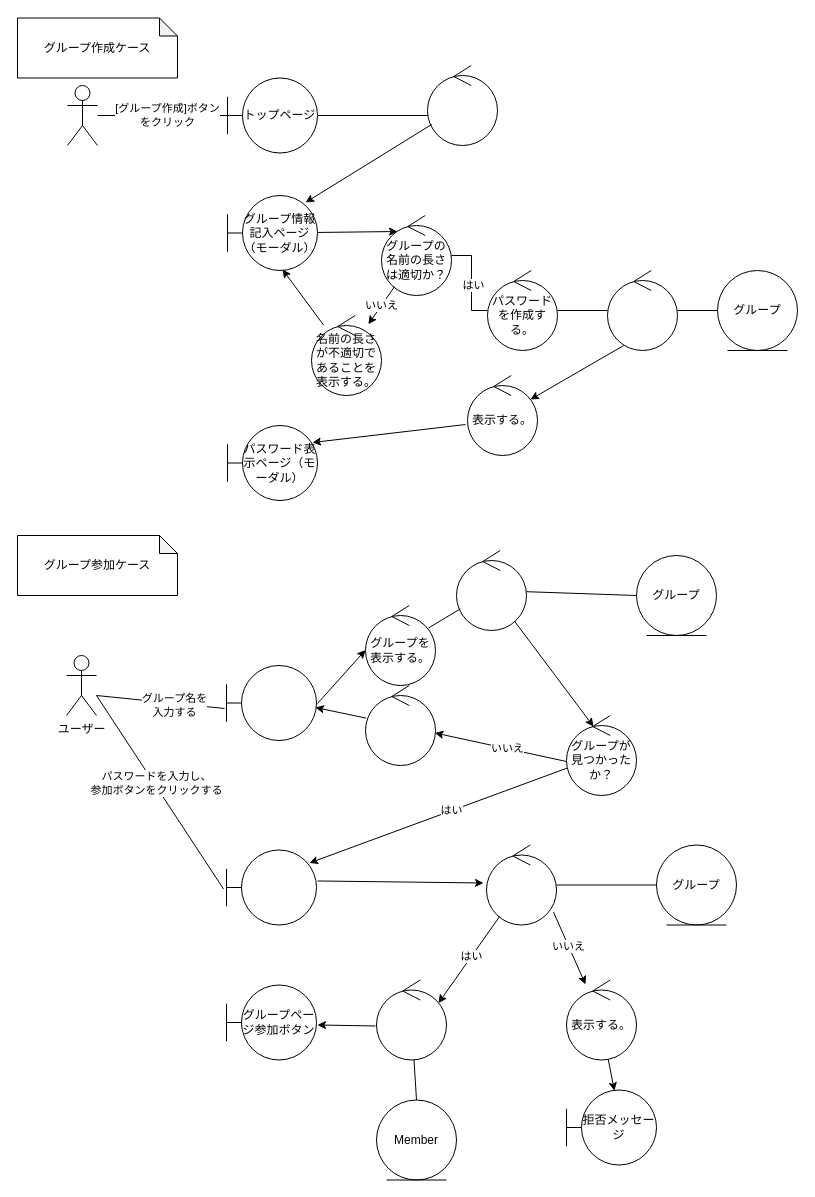
The diagram is 815 pixels wide and 1197 high, and some of its shapes have lost their labels. The centre of each missing label's shape, as x and y in pixels:
"グループにユーザーを追加する" goes at point (411, 1019).
"グループを作成する。" goes at point (642, 310).
"グループ一覧ページ" goes at point (271, 887).
"グループ作成ページを表示する。" goes at point (462, 105).
"グループ名からデータを取得する" goes at point (491, 590).
"グループ検索ページ" goes at point (271, 702).
"グループ管理者" goes at point (82, 115).
"パスワードが正しいかを確認する" goes at point (521, 884).
"検索結果なしを表示する" goes at point (400, 725).
